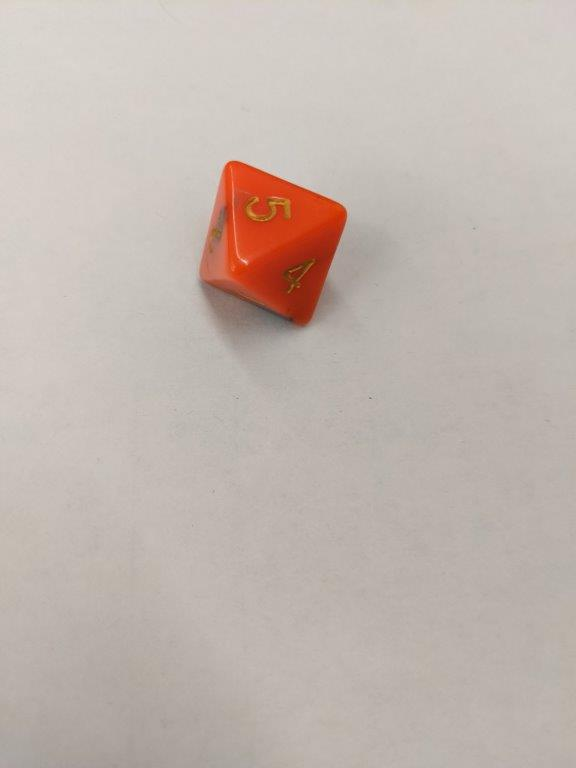d8-5: (198, 159, 348, 331)
